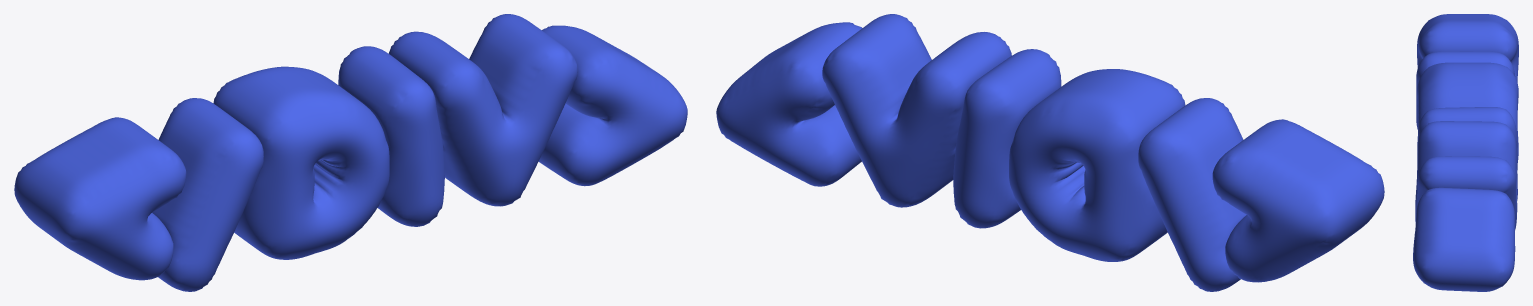
Rendered from divout.glb.
The picture shows the model from 3 angles, left to right: view 1: azimuth 30°, elevation 25°; view 2: azimuth 150°, elevation 25°; view 3: azimuth 270°, elevation 25°; orthographic projection. The views are drawn at different scales.
Visible parts, largest first — view 1: Text.004; view 2: Text.004; view 3: Text.004.
Boxes of the visible parts, x1=… form: Text.004: x1=14, y1=14, x2=687, y2=291; Text.004: x1=716, y1=14, x2=1384, y2=291; Text.004: x1=1413, y1=14, x2=1518, y2=291.
Bounding box in the file's own units: 26.62 × 6.67 × 5.42.
